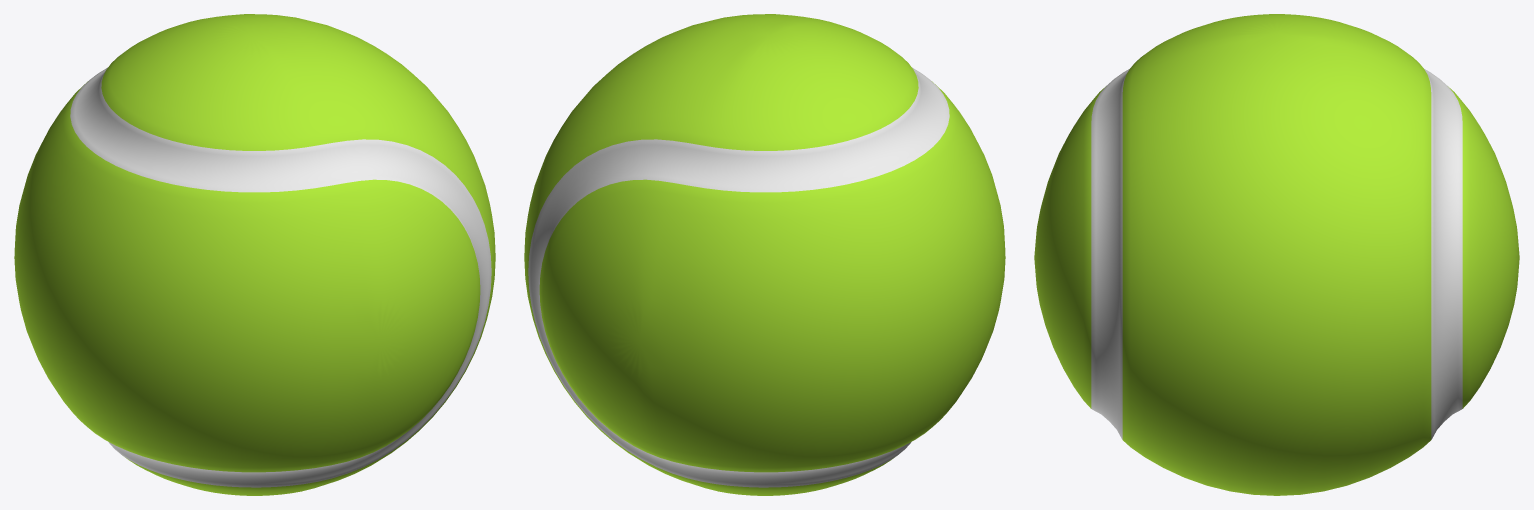
Rendered from tball.fbx.
3 renders of one model, left to right at view 1: azimuth 30°, elevation 25°; view 2: azimuth 150°, elevation 25°; view 3: azimuth 270°, elevation 25°, orthographic.
Parts seen in each view (by area): view 1: Sphere; view 2: Sphere; view 3: Sphere.
Part boxes in pixels (x1,y1,x2,y2): Sphere: (14,14,495,495); Sphere: (524,14,1005,495); Sphere: (1034,14,1519,495).
Bounding box in the file's own units: 197 × 199 × 199.
